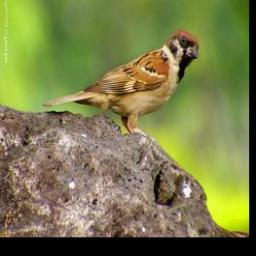Sparrow: (40, 25, 205, 140)
